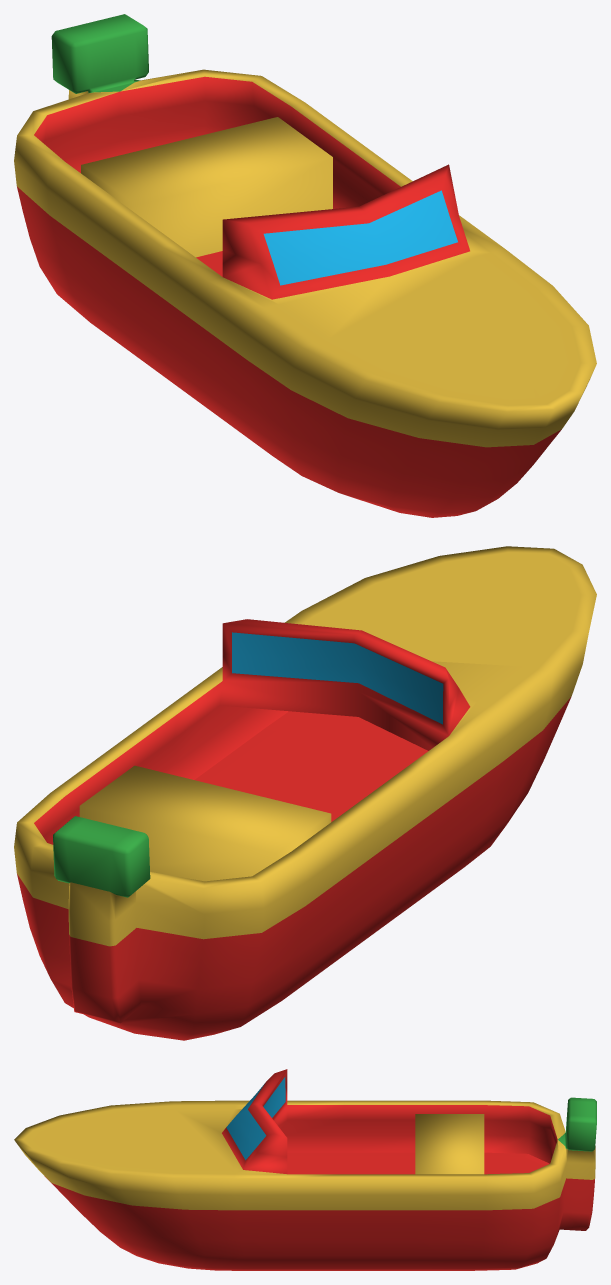
The model's file is Boat2.fbx.
The picture shows the model from 3 angles, top to bottom: view 1: azimuth 30°, elevation 25°; view 2: azimuth 150°, elevation 25°; view 3: azimuth 270°, elevation 25°; orthographic projection. The views are drawn at different scales.
Visible parts, largest first — view 1: Cube; view 2: Cube; view 3: Cube.
Part boxes in pixels (x1,y1,x2,y2): Cube: (14, 14, 596, 517); Cube: (14, 546, 596, 1040); Cube: (14, 1069, 596, 1270).
Size of the model in its own units: 213 by 190 by 659.
